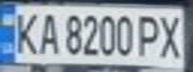0: (115, 11, 139, 57), (97, 11, 118, 57)
2: (78, 10, 100, 56)
8: (60, 10, 84, 56)
A: (33, 9, 60, 56)
K: (9, 8, 42, 56)
P: (136, 11, 163, 58)
X: (154, 11, 187, 60)
